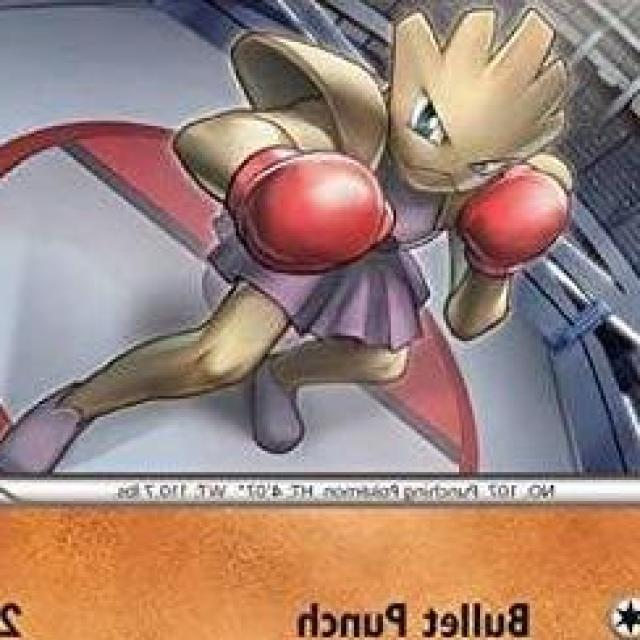Hitmonchan: (0, 14, 583, 483)
